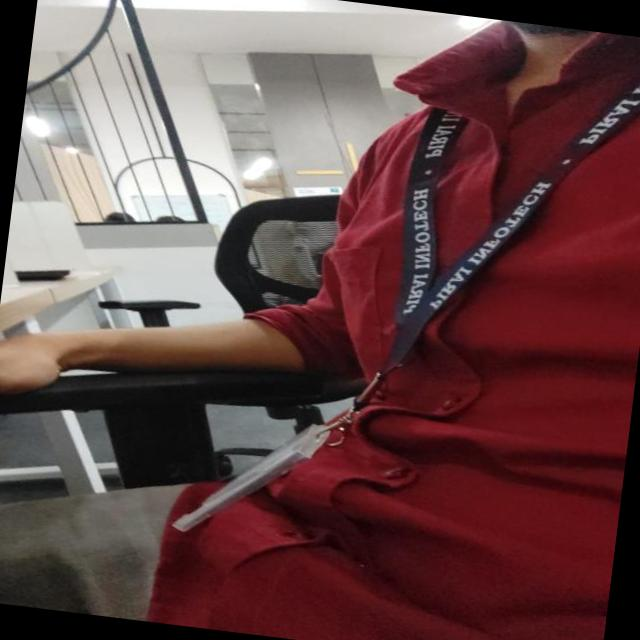id_card: (162, 0, 640, 590)
